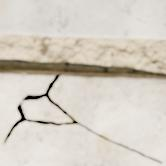brick: (0, 70, 160, 165), (51, 73, 165, 165), (0, 0, 165, 38)
crack: (2, 73, 163, 165)
